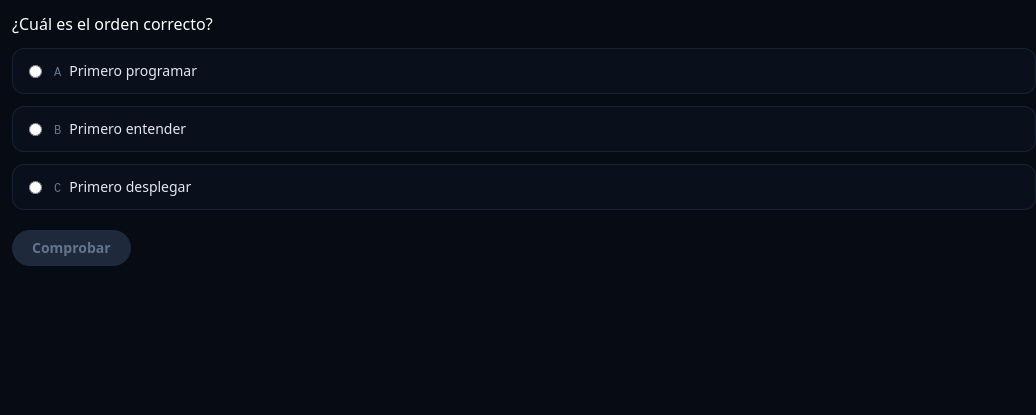
Test: QuizPlayer › en un fallo explica la opción elegida y la correcta, y permite reintentar
This screenshot has width=1036, height=415.
What coordinates should you click on to do the following:
click the radio button labelled "Primero programar"
I would click on:
 (36, 72)
Its box is [29, 65, 42, 78].
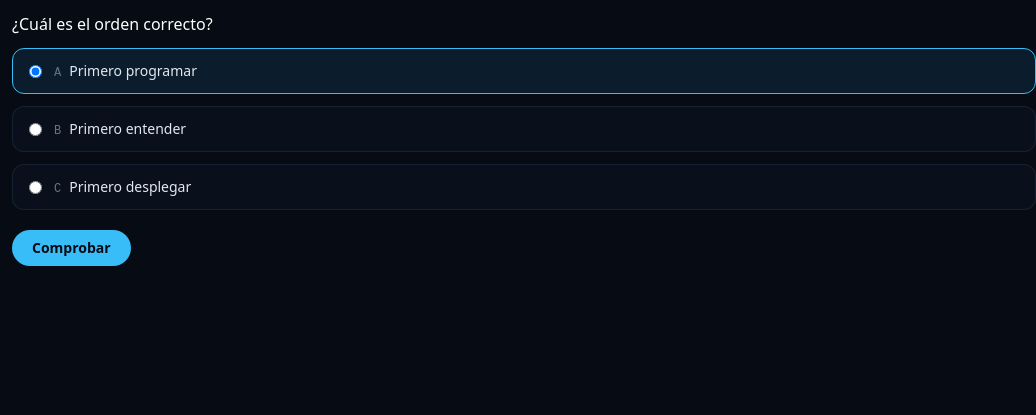
What coordinates should you click on to do the following:
click the button "Comprobar"
I would click on:
 (71, 248)
Its box is [12, 230, 131, 266].
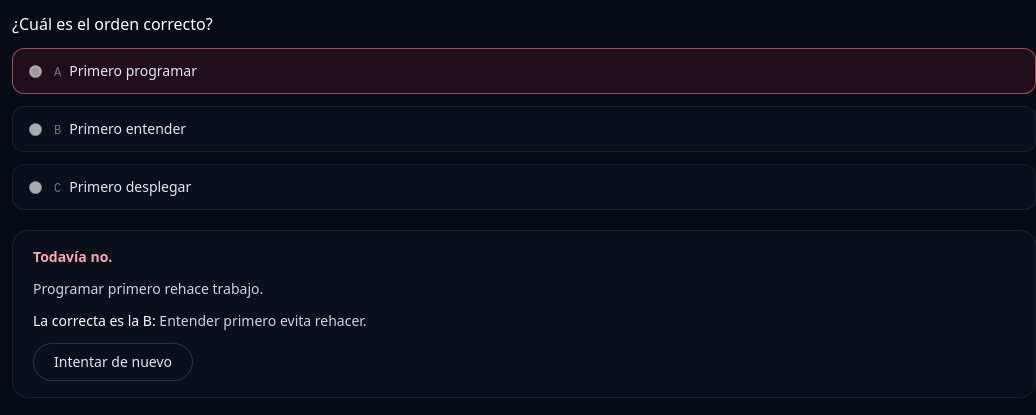
expect the text "Todavía no." is shown: met, box [33, 247, 112, 266]
expect the text "Programar primero rehace trabajo." is shown: met, box [33, 279, 263, 298]
expect the text "La correcta es la B:" is shown: met, box [33, 311, 159, 330]
What coordinates should you click on to do the following:
click the button "Intentar de nuevo"
I would click on:
 (113, 362)
Its box is [33, 343, 193, 381].
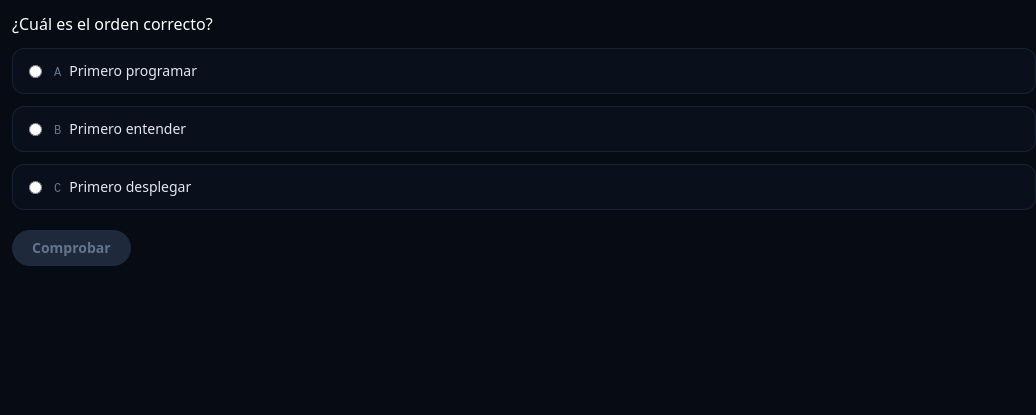
expect the button "Comprobar" is disabled: met, box [12, 230, 131, 266]
